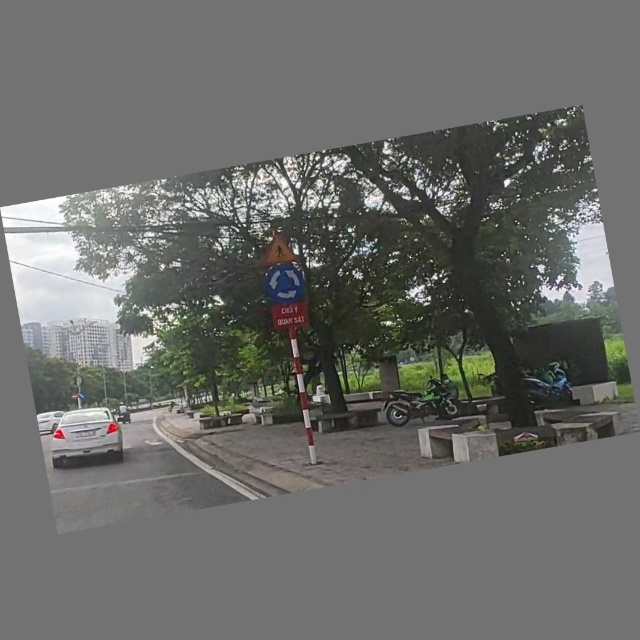P.102: (69, 393, 79, 402)
R.302a: (78, 391, 88, 402)
R.303: (263, 263, 308, 306)
W.224: (260, 230, 303, 268)
